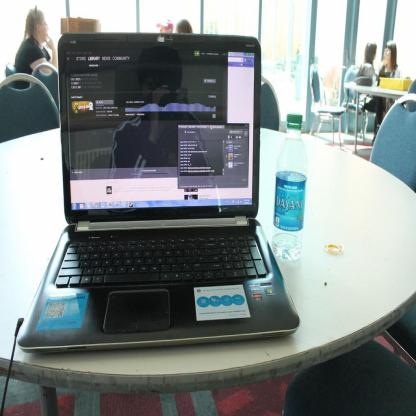board: (17, 30, 300, 351), (272, 114, 308, 261)
